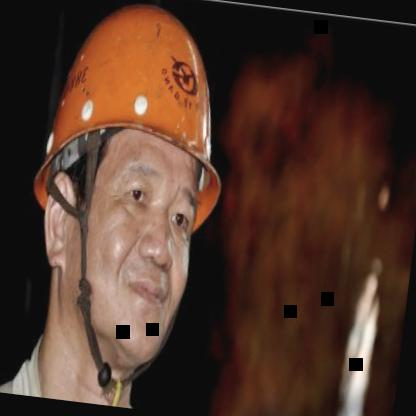helmet: (9, 0, 254, 412)
